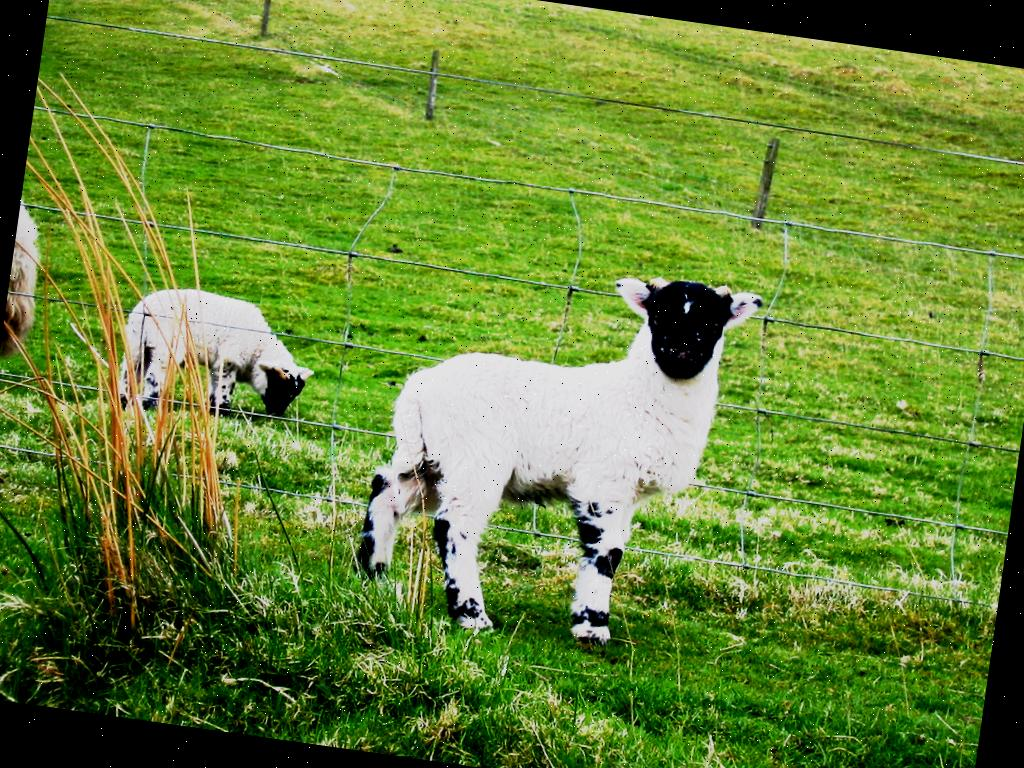Sheep: (345, 240, 762, 672), (116, 278, 322, 430), (0, 196, 49, 355)
